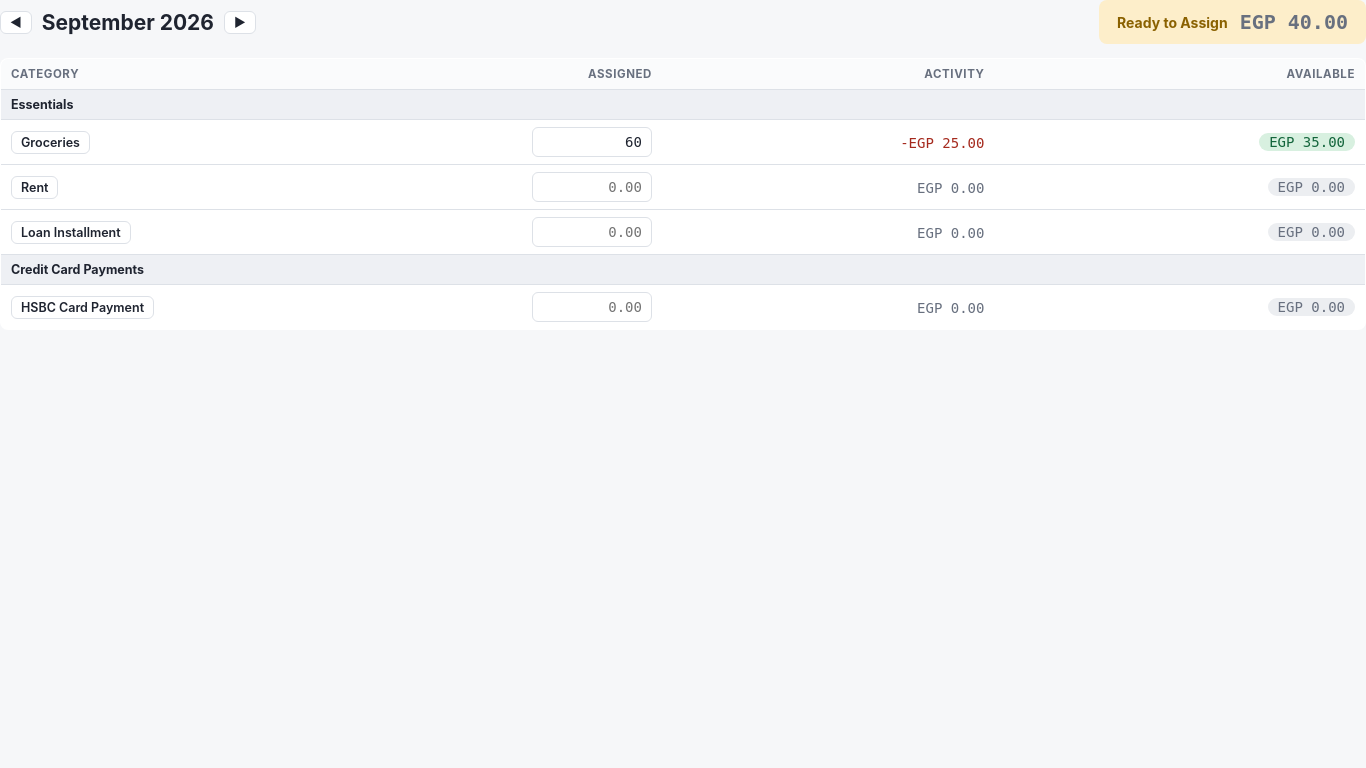
Test: BudgetView › refuses a non-positive target amount with a visible message
Click the button with aria-label "edit target for groceries" at (50, 142), box [11, 130, 90, 154]
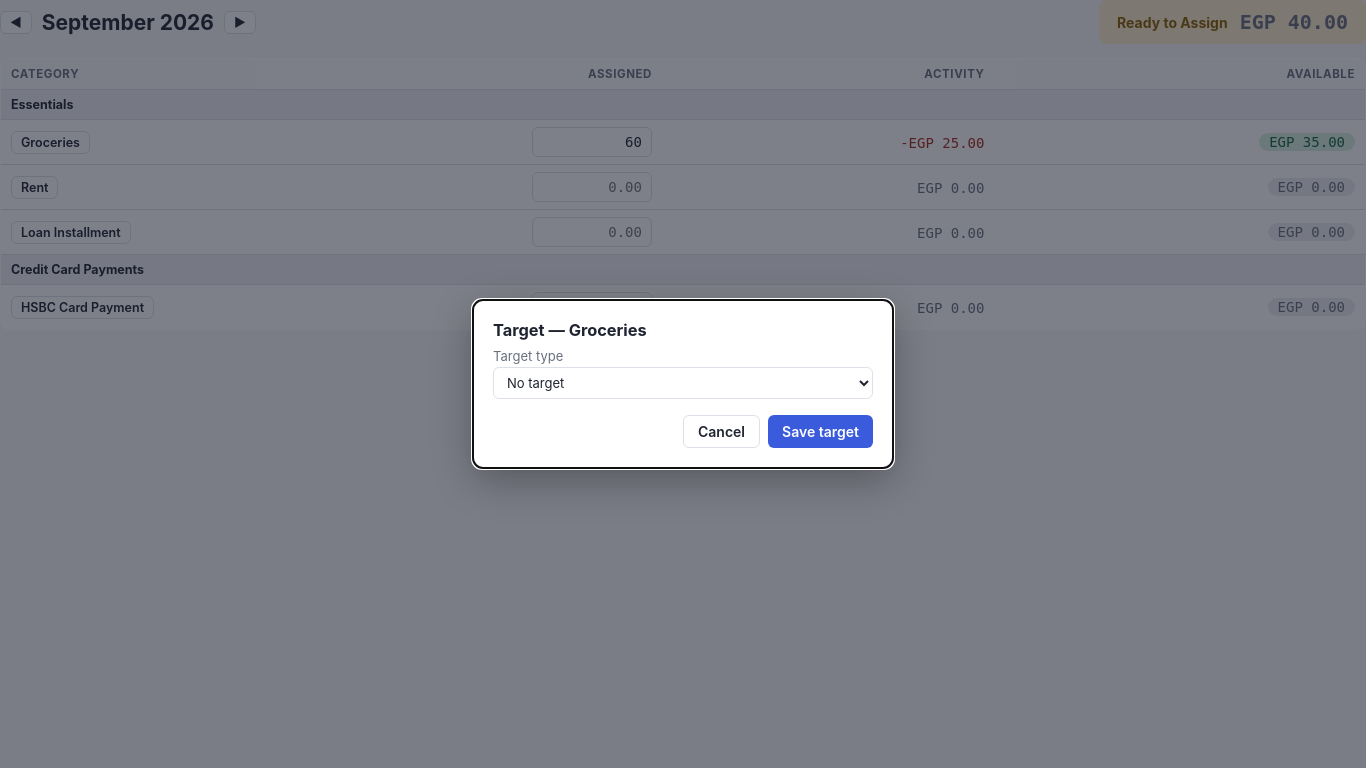
Select "Monthly funding" in the dropdown labelled "Target type" at (683, 383), box [493, 367, 873, 399]
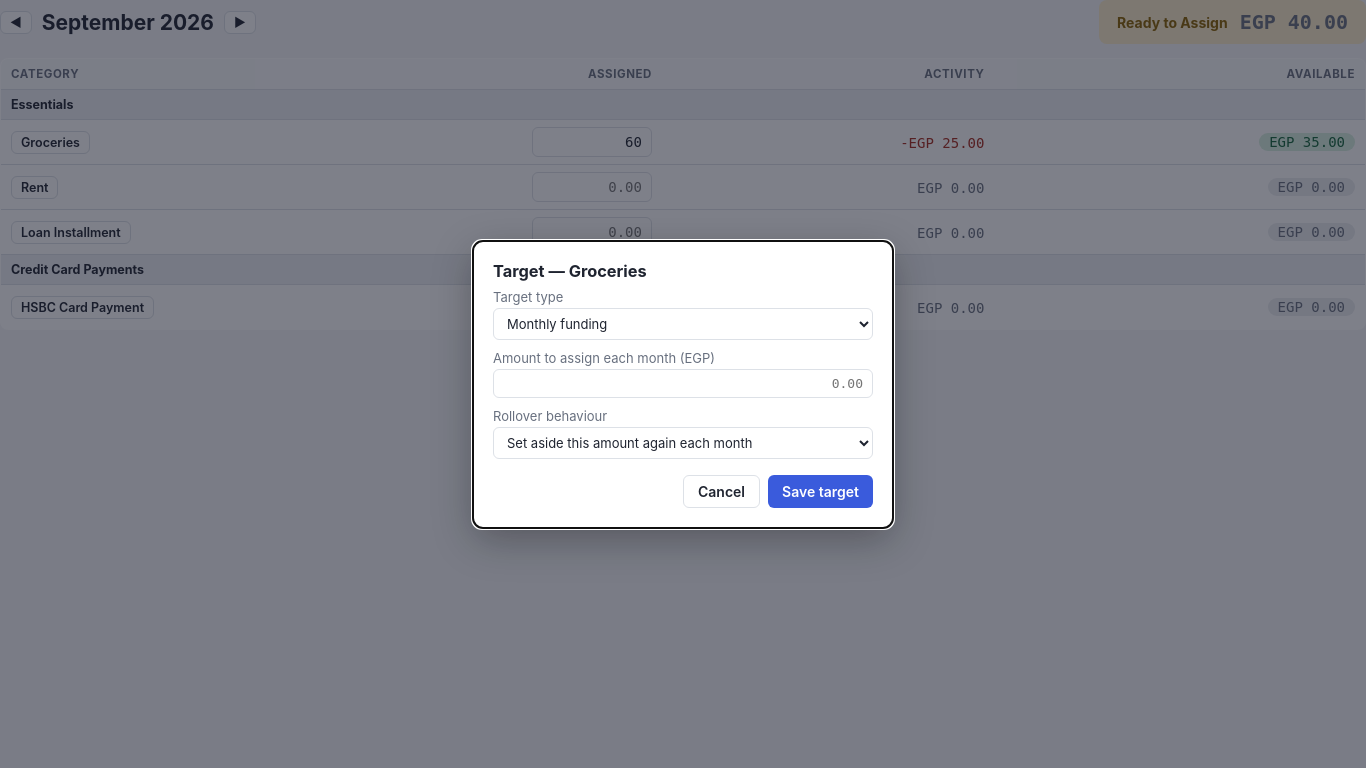
Click the button "Save target" at (820, 491), box [768, 474, 873, 508]
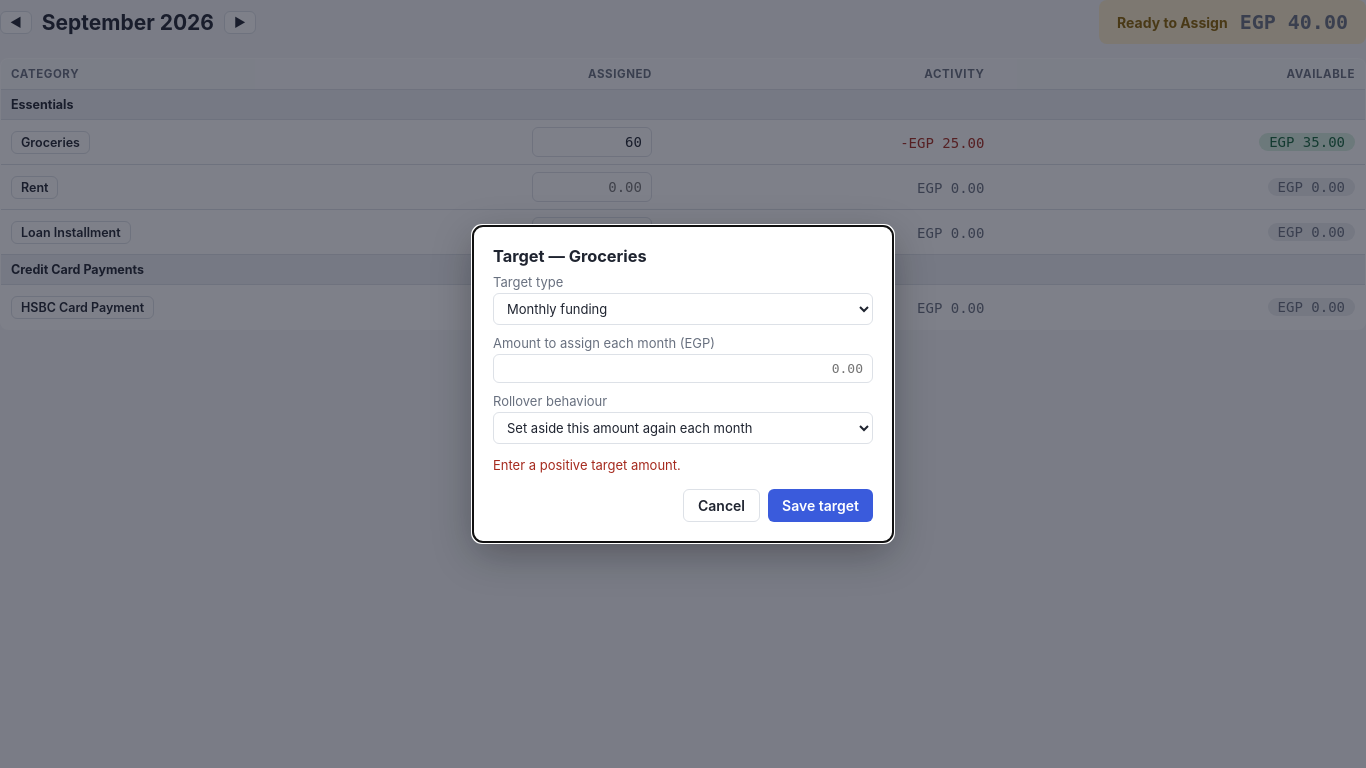
Check: the message shows "positive", box [493, 457, 681, 473]
